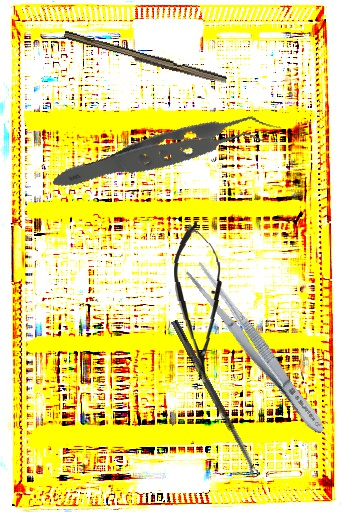Dressing Forceps: (182, 259, 332, 440)
Micro Scissor: (171, 220, 227, 381)
Scalpel Handle: (62, 30, 228, 87)
Surgical Spoon: (170, 319, 260, 479)
Tissue Forceps: (52, 68, 286, 244)
